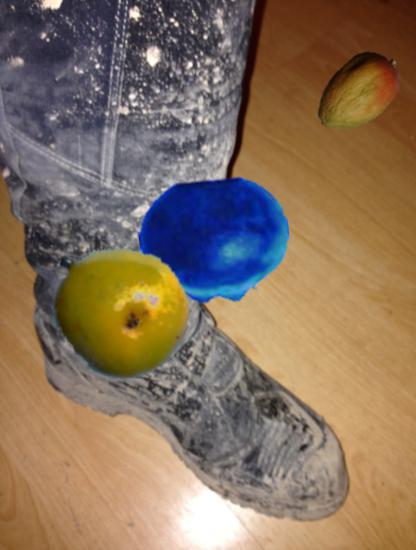Huckleberry: (140, 166, 290, 316)
Maracuja: (46, 239, 190, 383)
Papaya: (311, 45, 407, 141)
Physalis: (76, 293, 128, 345)
